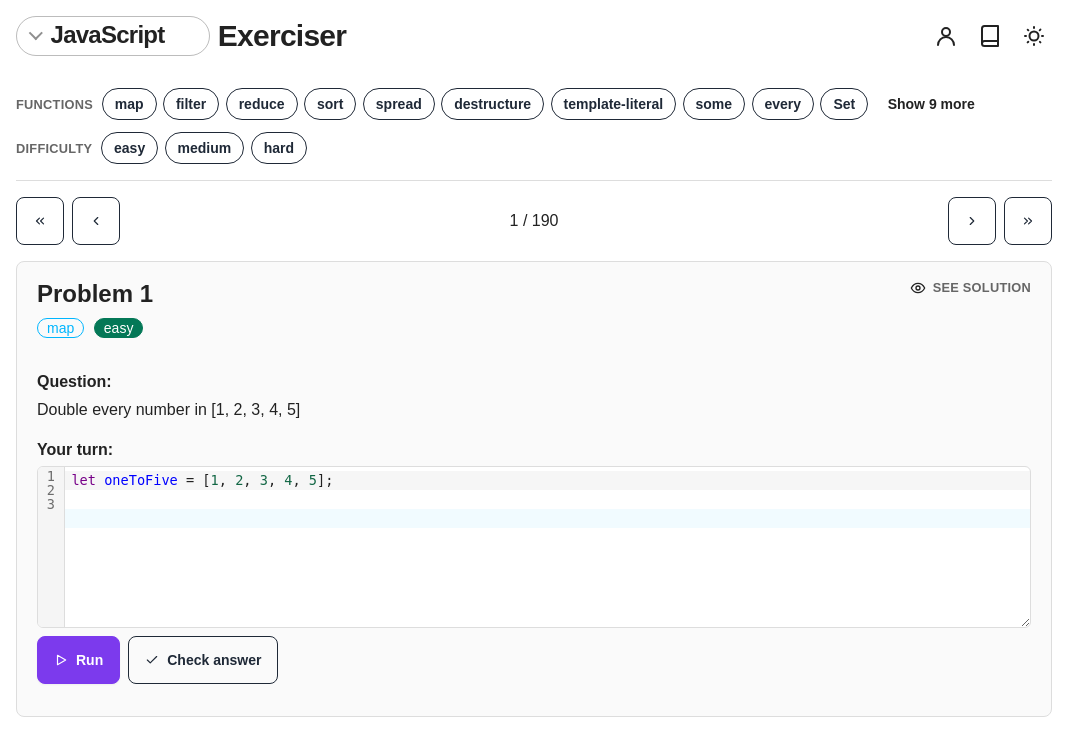
Test: App › navigates to the next exercise on click
Click the button titled "Next (→)" at (972, 221), box [948, 197, 996, 245]
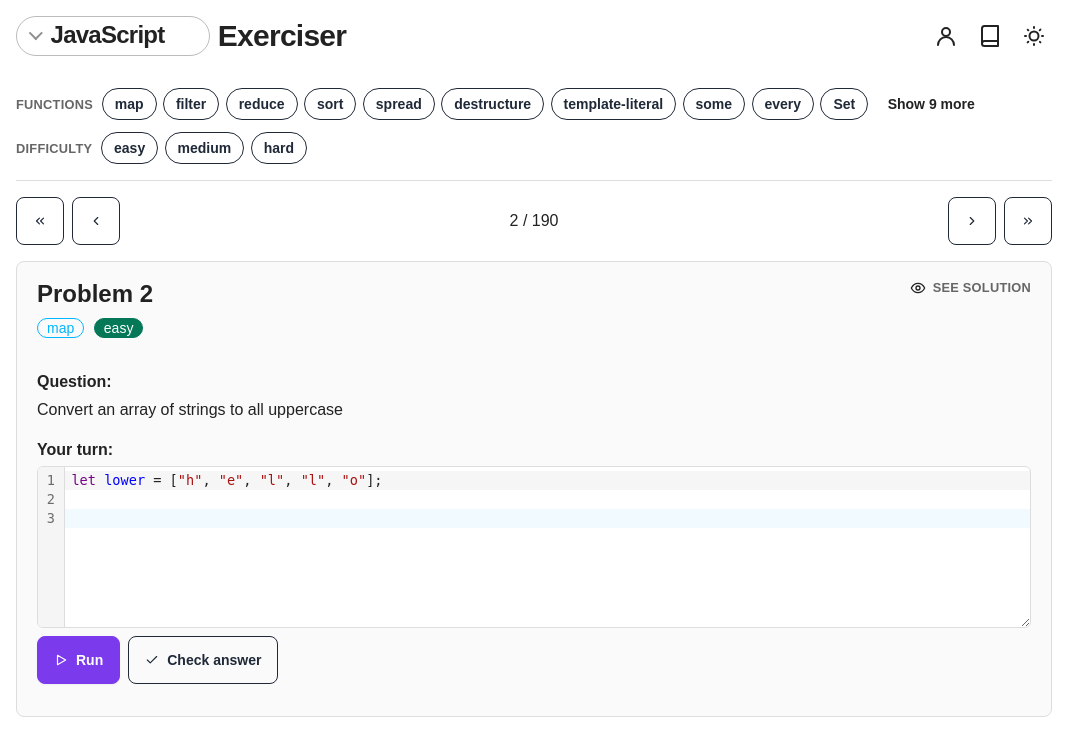
Result: the heading "Problem 2" is shown at [37, 278, 153, 310]
